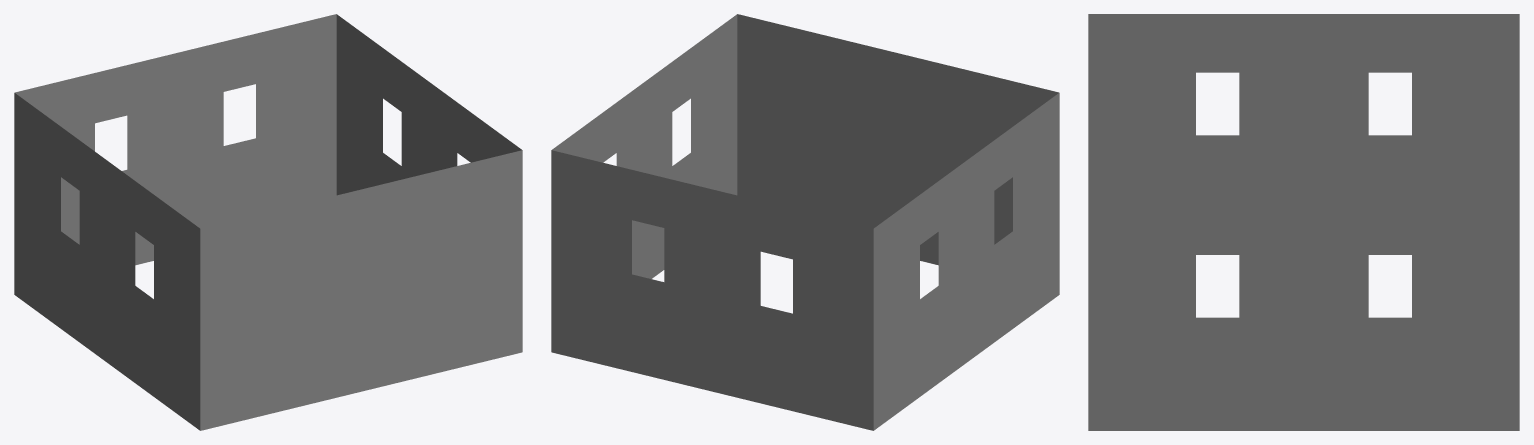
Rendered from s_mini_game_walls.fbx.
3 views of the same model, side by side, from view 1: azimuth 30°, elevation 25°; view 2: azimuth 150°, elevation 25°; view 3: azimuth 270°, elevation 25° (orthographic). The views are drawn at different scales.
Visible parts, largest first — view 1: S Mini-Game Walls; view 2: S Mini-Game Walls; view 3: S Mini-Game Walls.
Boxes of the visible parts, <box> form: S Mini-Game Walls: <box>14,14,522,430</box>; S Mini-Game Walls: <box>551,14,1059,430</box>; S Mini-Game Walls: <box>1088,14,1519,430</box>.
Bounding box in the file's own units: 500 × 300 × 500.
